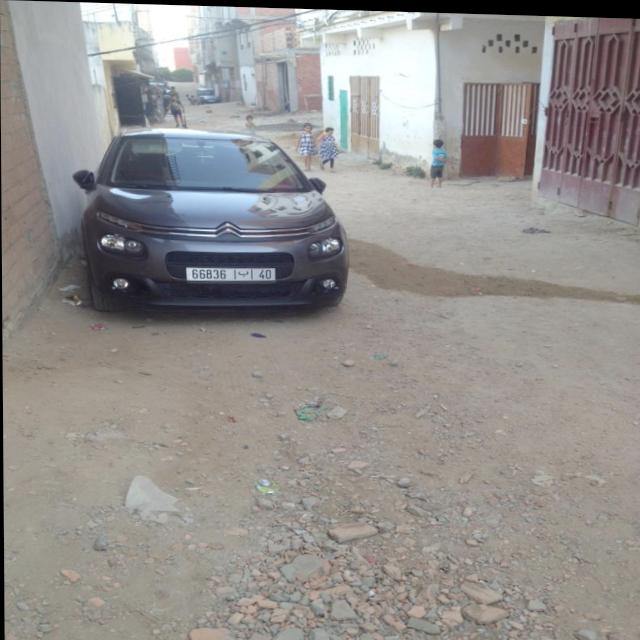License-Plate: (185, 266, 275, 280)
